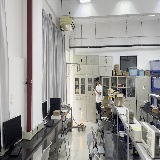fire: (80, 107, 83, 125)
